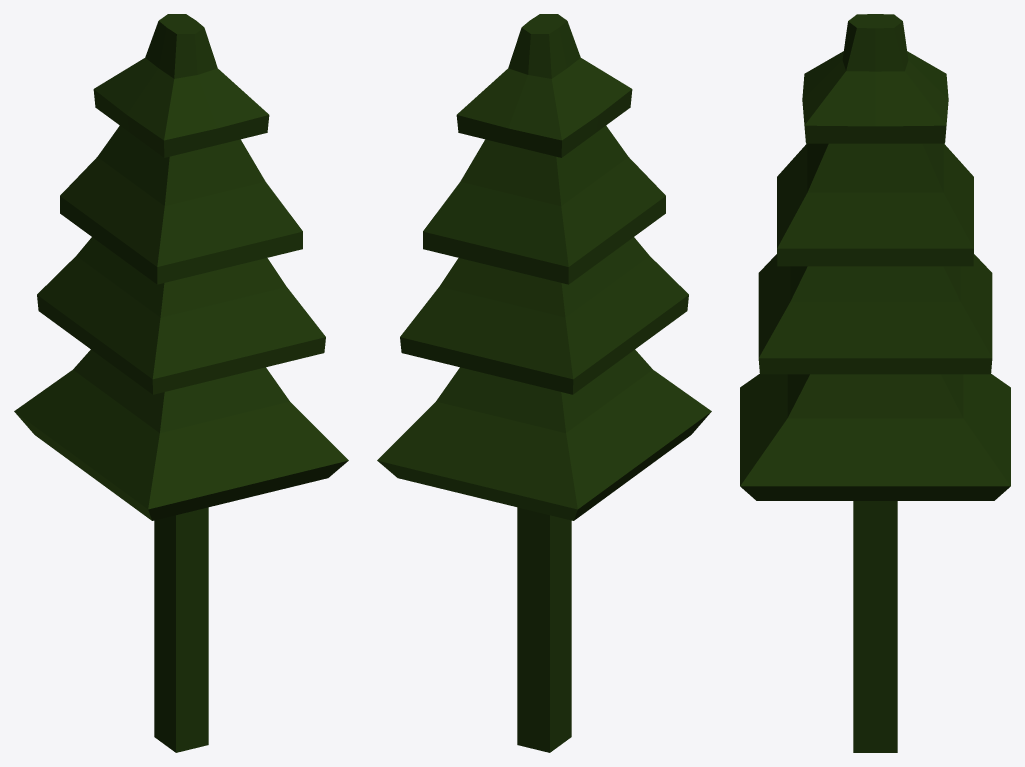
The model's file is puu_01.fbx.
The picture shows the model from 3 angles, left to right: view 1: azimuth 30°, elevation 25°; view 2: azimuth 150°, elevation 25°; view 3: azimuth 270°, elevation 25°; orthographic projection.
Visible parts, largest first — view 1: puu_01; view 2: puu_01; view 3: puu_01.
Boxes of the visible parts, <box> form: puu_01: <box>14,14,348,752</box>; puu_01: <box>377,14,711,752</box>; puu_01: <box>740,14,1010,752</box>.
Size of the model in its own units: 709 by 2417 by 820.
